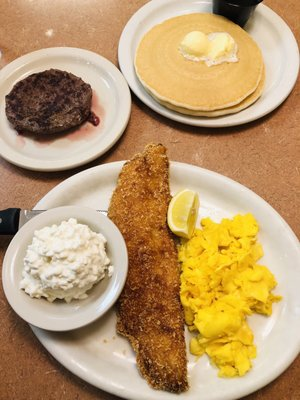sushi: (1, 206, 128, 332)
